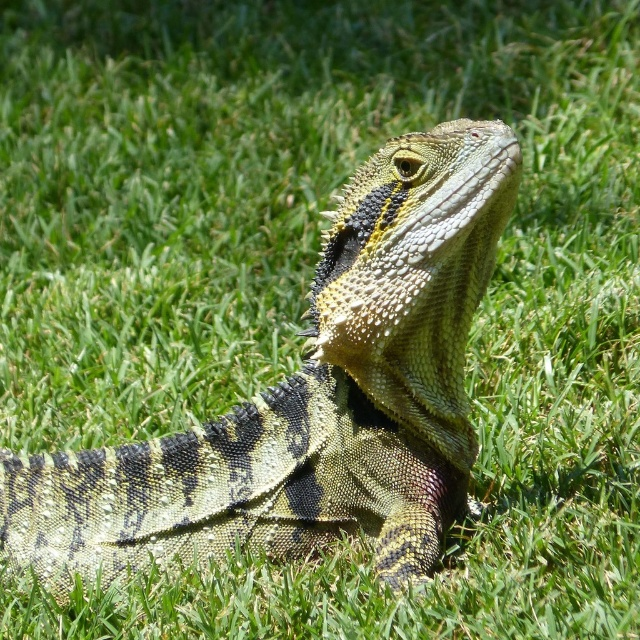Lizard: (10, 115, 523, 604)
